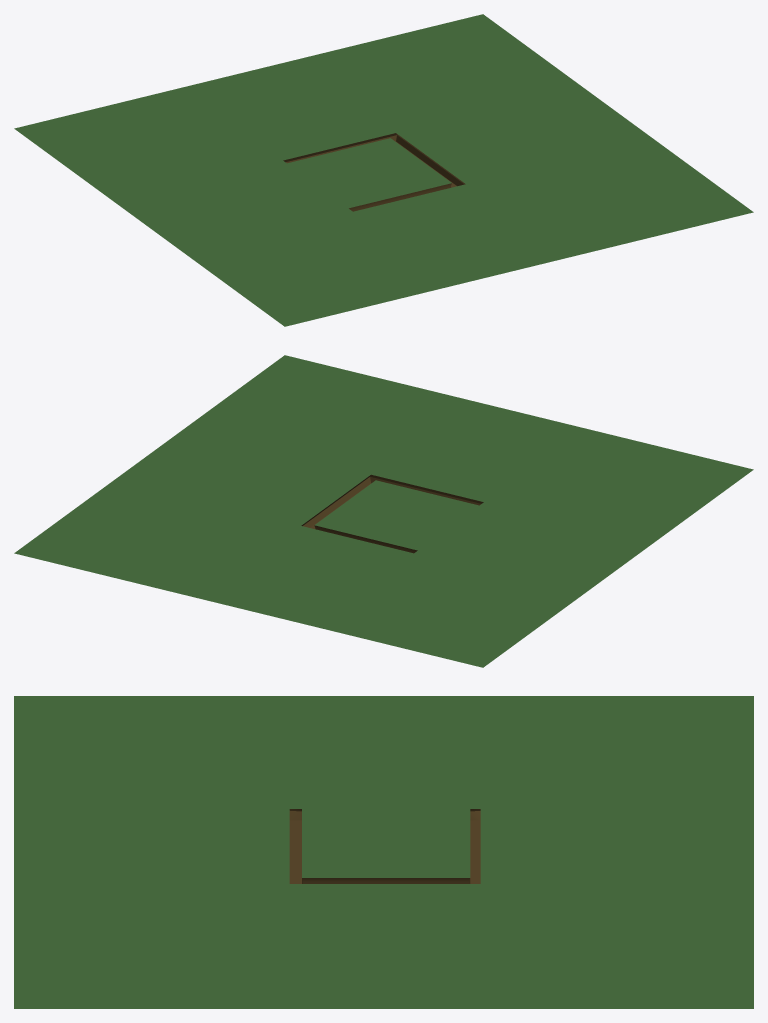
File: Grass.fbx
3 renders of one model, top to bottom at view 1: azimuth 30°, elevation 25°; view 2: azimuth 150°, elevation 25°; view 3: azimuth 270°, elevation 25°, orthographic. The views are drawn at different scales.
Parts seen in each view (by area): view 1: Grass; view 2: Grass; view 3: Grass.
Part boxes in pixels (x1=…): Grass: x1=14, y1=14, x2=753, y2=326; Grass: x1=14, y1=355, x2=753, y2=667; Grass: x1=14, y1=696, x2=753, y2=1008.
Size of the model in its own units: 230 by 230 by 3.94.
